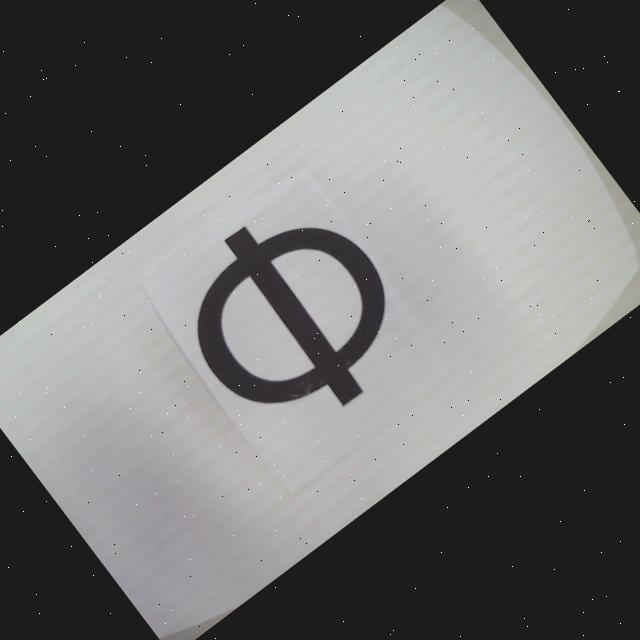PHI: (153, 174, 433, 457)
